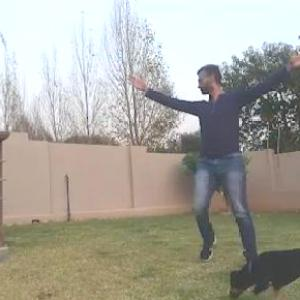takeoff: (119, 48, 299, 263)
